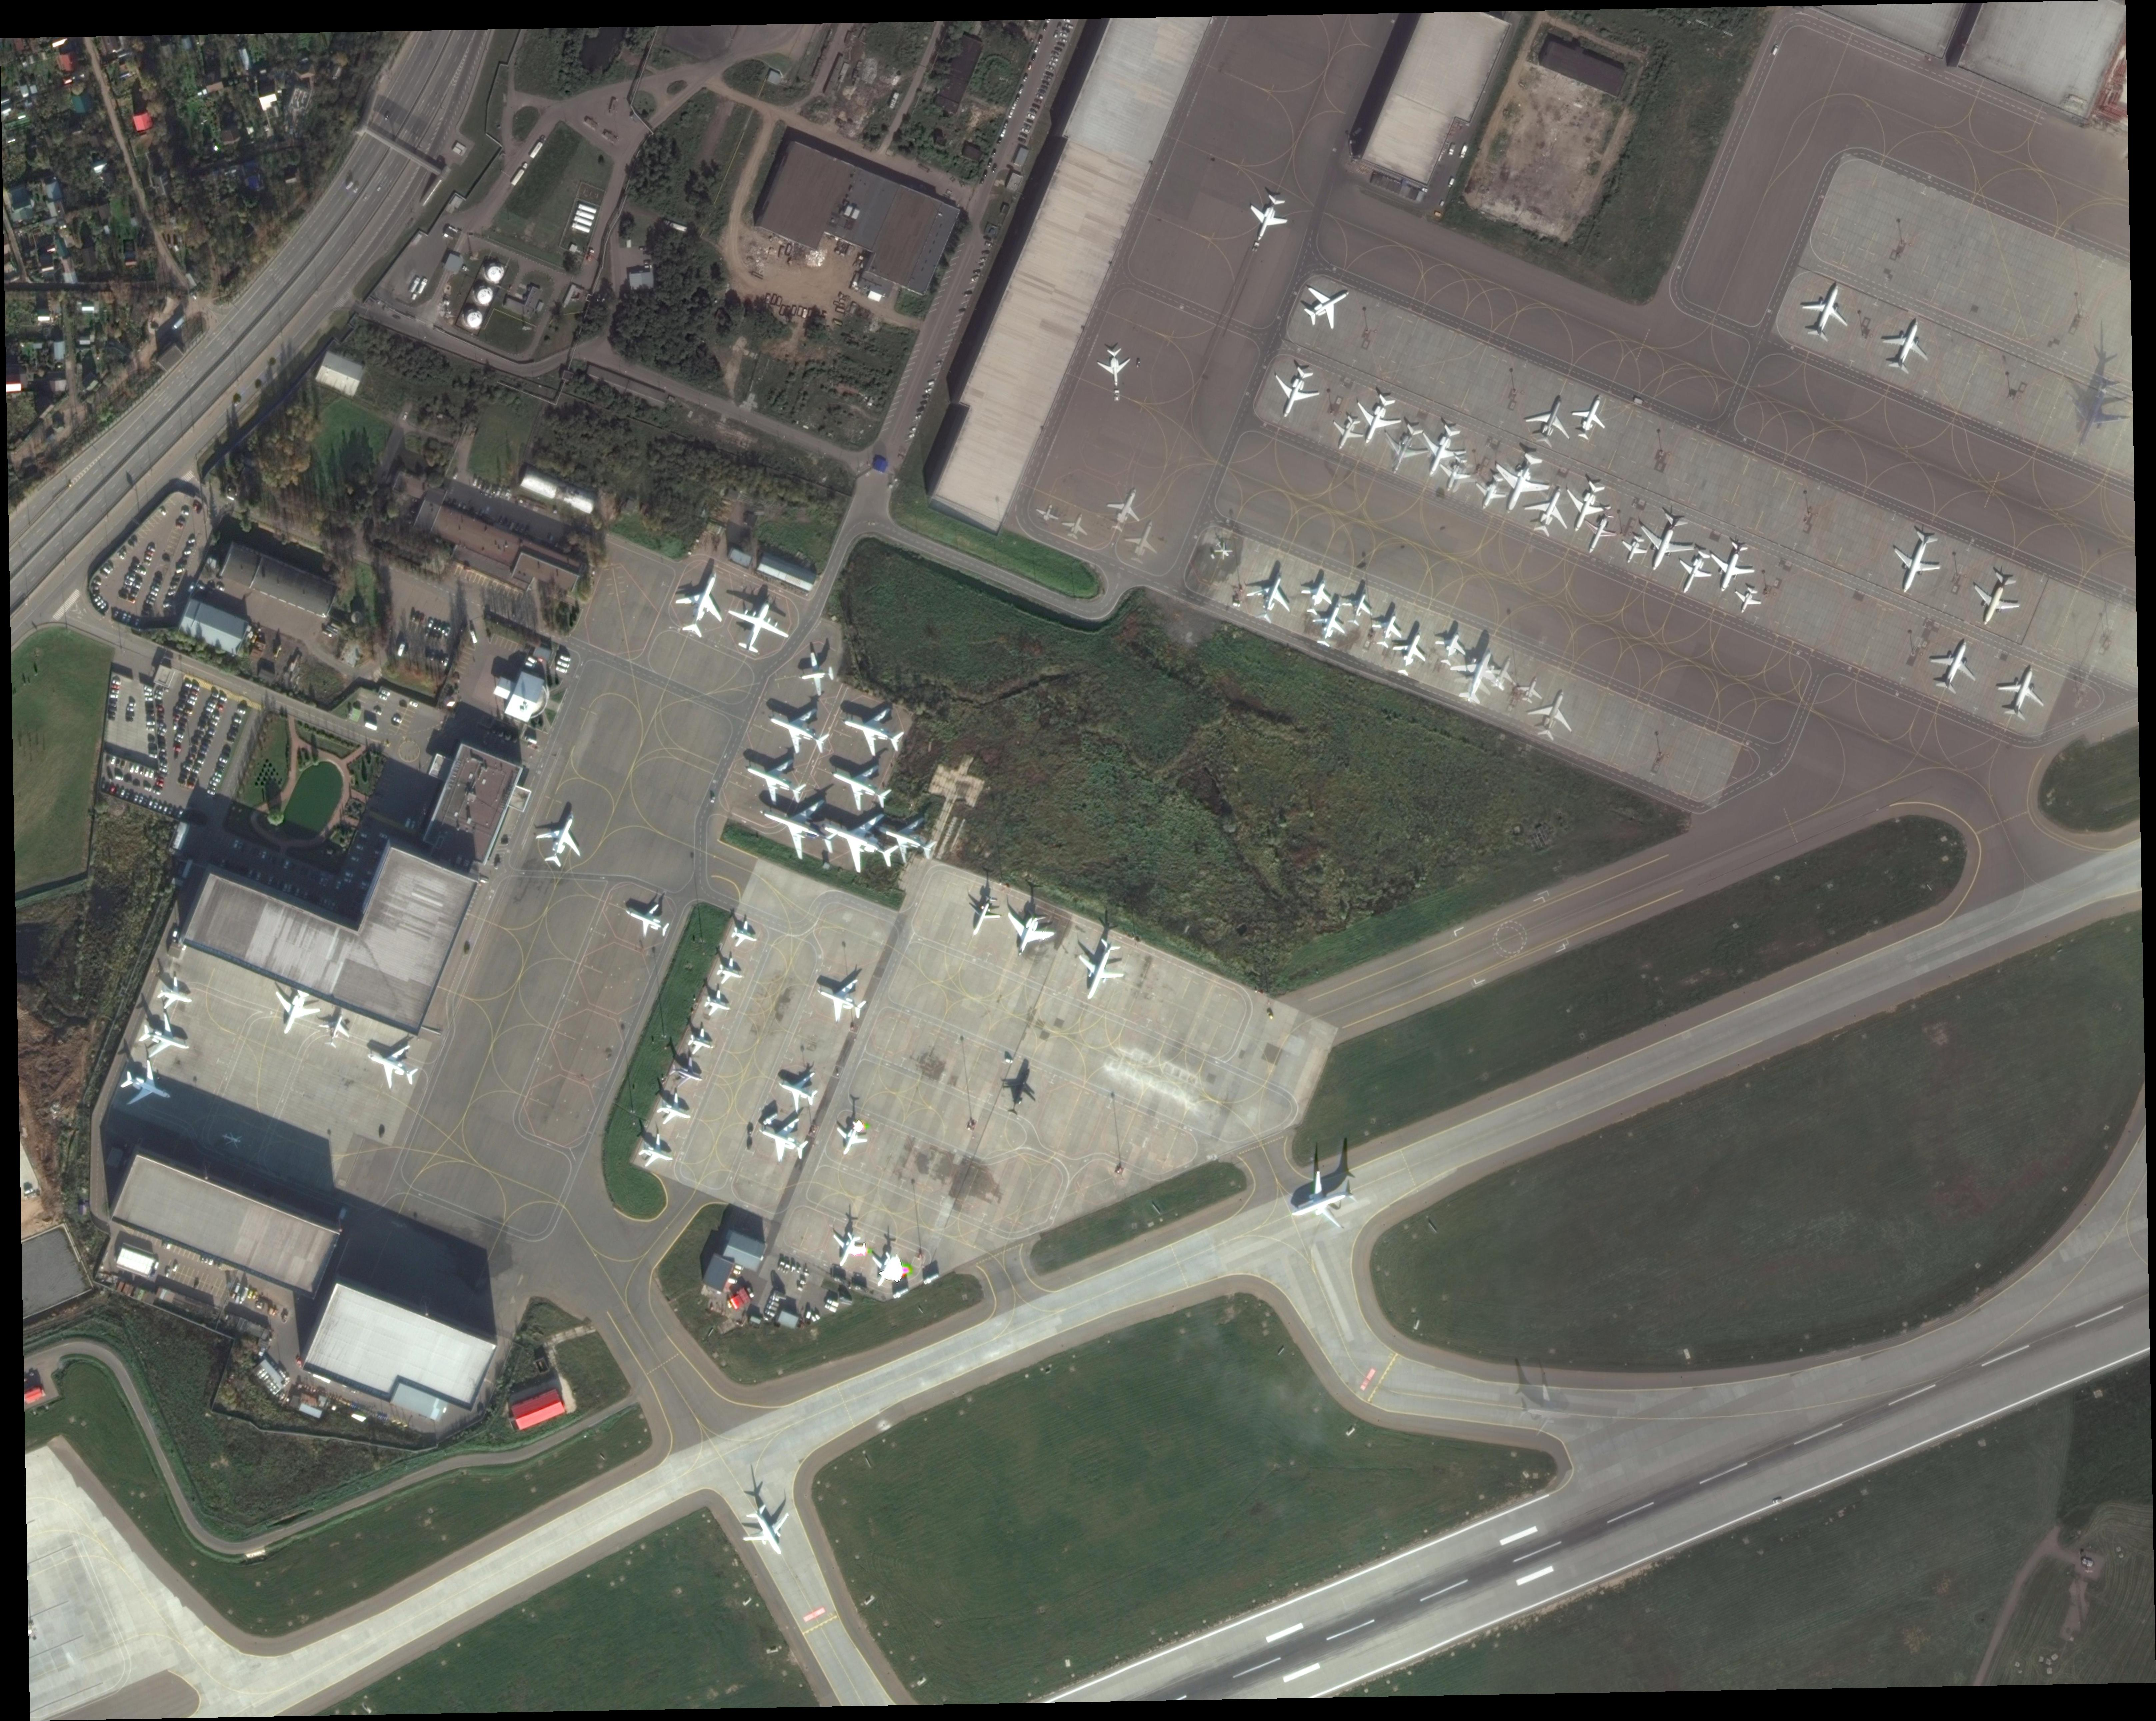plane: (748, 780, 847, 869), (815, 795, 908, 884), (1279, 1161, 1367, 1244), (718, 583, 801, 664), (1481, 444, 1559, 525), (666, 562, 738, 643), (1627, 506, 1703, 581), (831, 694, 911, 765), (735, 743, 814, 813), (759, 694, 836, 763), (823, 749, 898, 819), (1443, 637, 1514, 711), (1881, 525, 1949, 601), (869, 804, 943, 872), (1067, 933, 1133, 1008), (1962, 564, 2029, 634), (733, 1498, 802, 1565), (1793, 275, 1860, 346), (1921, 630, 1987, 700), (1989, 656, 2056, 726), (1293, 271, 1362, 336), (1408, 417, 1474, 486), (358, 1032, 426, 1096), (1262, 359, 1326, 426), (1554, 473, 1617, 540), (808, 965, 873, 1031), (1875, 313, 1939, 379), (1371, 415, 1434, 482), (1239, 562, 1301, 629), (114, 1055, 181, 1117), (750, 1106, 815, 1169), (529, 809, 593, 873), (1521, 681, 1585, 746), (1517, 477, 1579, 543), (1344, 387, 1407, 452), (1699, 535, 1762, 599), (1518, 390, 1581, 454), (263, 981, 325, 1043), (133, 1008, 198, 1068), (997, 904, 1059, 963), (1516, 1383, 1576, 1439), (1241, 189, 1294, 248), (770, 1061, 825, 1117), (993, 1062, 1045, 1119), (1564, 386, 1615, 444), (1100, 480, 1150, 538), (619, 893, 675, 945), (1668, 544, 1719, 600), (1385, 625, 1433, 681), (1573, 506, 1623, 560), (1306, 597, 1354, 651), (1120, 514, 1167, 568), (1448, 655, 1496, 708), (959, 889, 1006, 940), (823, 1225, 871, 1272), (634, 1128, 680, 1175), (1468, 468, 1512, 516), (862, 1248, 908, 1293), (1295, 572, 1339, 619), (829, 1114, 873, 1161), (1432, 450, 1476, 496), (313, 1005, 357, 1051), (1429, 624, 1473, 670), (1324, 409, 1368, 455), (665, 1051, 709, 1096), (653, 1089, 697, 1132), (797, 650, 838, 697), (1337, 585, 1379, 630), (1481, 651, 1523, 694), (1366, 609, 1408, 651), (154, 973, 197, 1014), (1614, 530, 1651, 569), (1096, 347, 1133, 386), (1728, 582, 1765, 619), (1512, 672, 1548, 707), (1058, 508, 1093, 543), (713, 955, 748, 989), (684, 1025, 718, 1060), (701, 987, 735, 1021), (728, 917, 761, 952), (1034, 501, 1062, 525)
